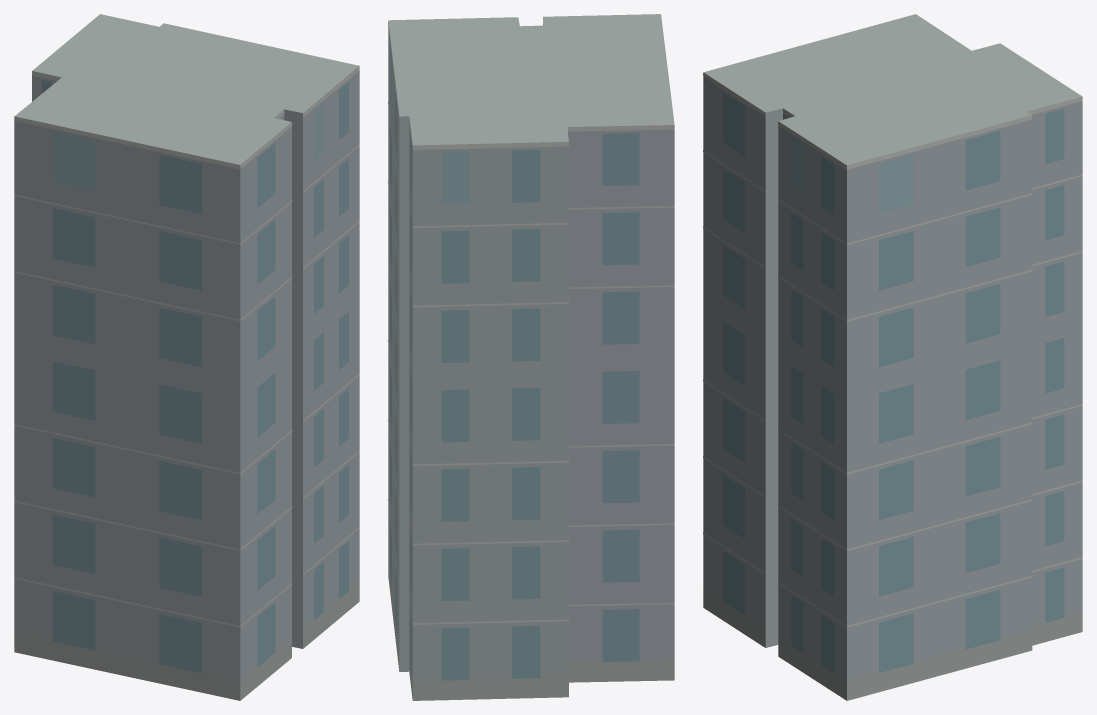
Rendered from survey-upis-32694685.glb.
3 views of the same model, side by side, from view 1: azimuth 30°, elevation 25°; view 2: azimuth 150°, elevation 25°; view 3: azimuth 270°, elevation 25° (orthographic). The views are drawn at different scales.
Parts seen in each view (by area): view 1: survey-upis-32694685.tmp; view 2: survey-upis-32694685.tmp; view 3: survey-upis-32694685.tmp.
Part boxes in pixels (left/top/right/bottom): survey-upis-32694685.tmp: left=14, top=14, right=359, bottom=700; survey-upis-32694685.tmp: left=388, top=14, right=674, bottom=700; survey-upis-32694685.tmp: left=703, top=14, right=1082, bottom=700.
Size of the model in its own units: 17.65 by 29.05 by 18.67.
